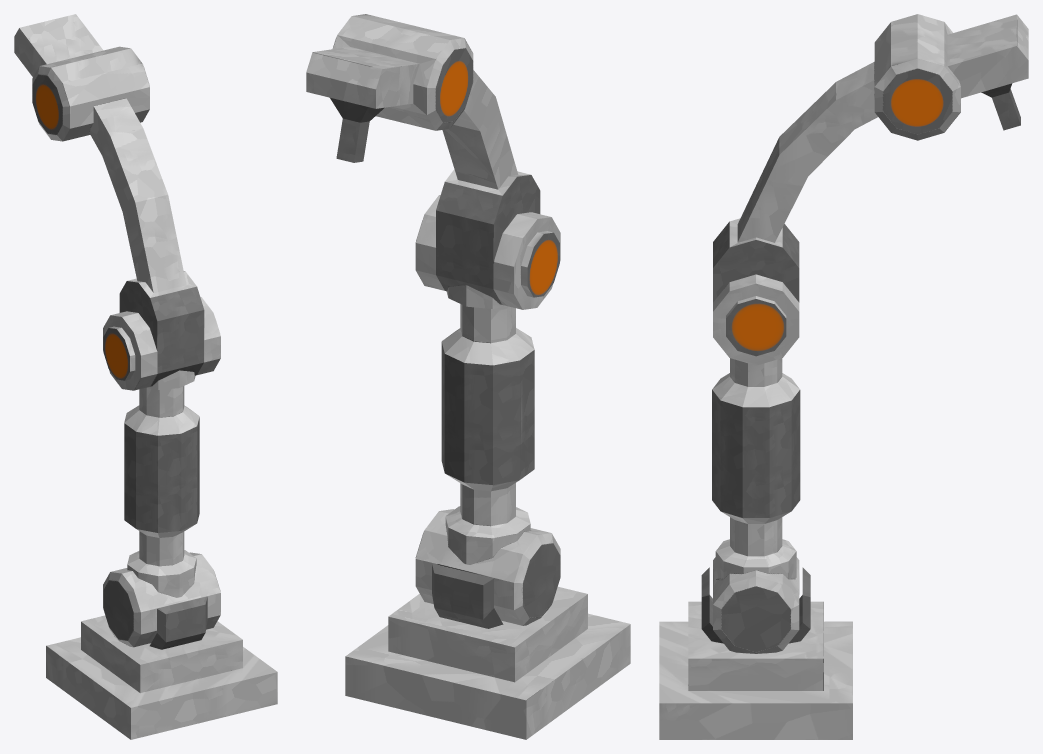
The model's file is Robot.fbx.
3 renders of one model, left to right at view 1: azimuth 30°, elevation 25°; view 2: azimuth 150°, elevation 25°; view 3: azimuth 270°, elevation 25°, orthographic. The views are drawn at different scales.
Visible parts, largest first — view 1: Robo; view 2: Robo; view 3: Robo.
Part boxes in pixels (left/top/right/bottom): Robo: left=14, top=14, right=277, bottom=739; Robo: left=306, top=14, right=630, bottom=739; Robo: left=659, top=14, right=1028, bottom=739.
Size of the model in its own units: 200 by 763 by 382.
Materials: 1 (1 with a texture image).
